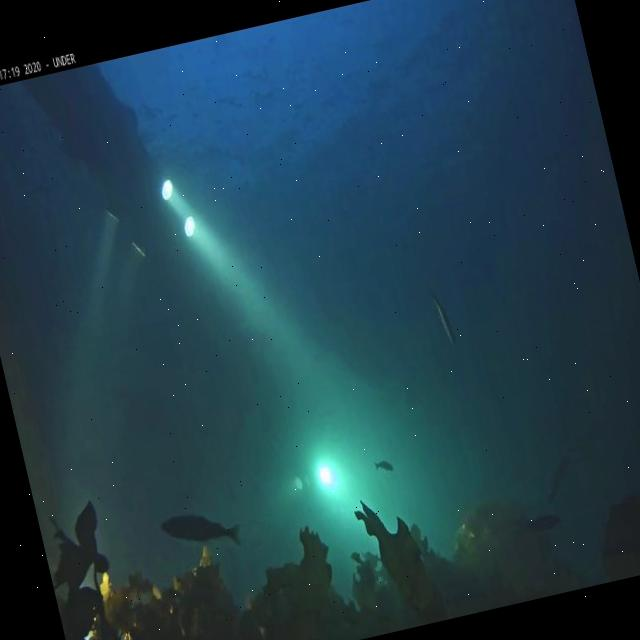fish: (161, 504, 244, 560), (540, 452, 584, 502), (427, 288, 458, 352), (518, 506, 564, 538), (372, 456, 395, 476)
